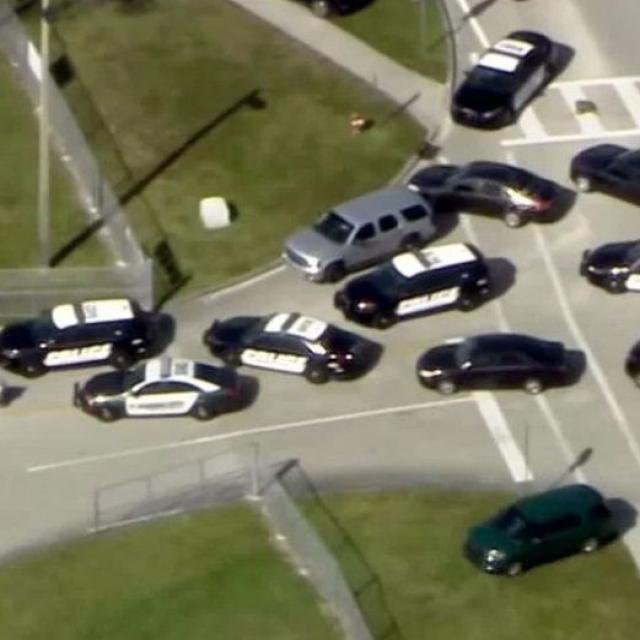traffic_incident: (4, 102, 566, 443)
